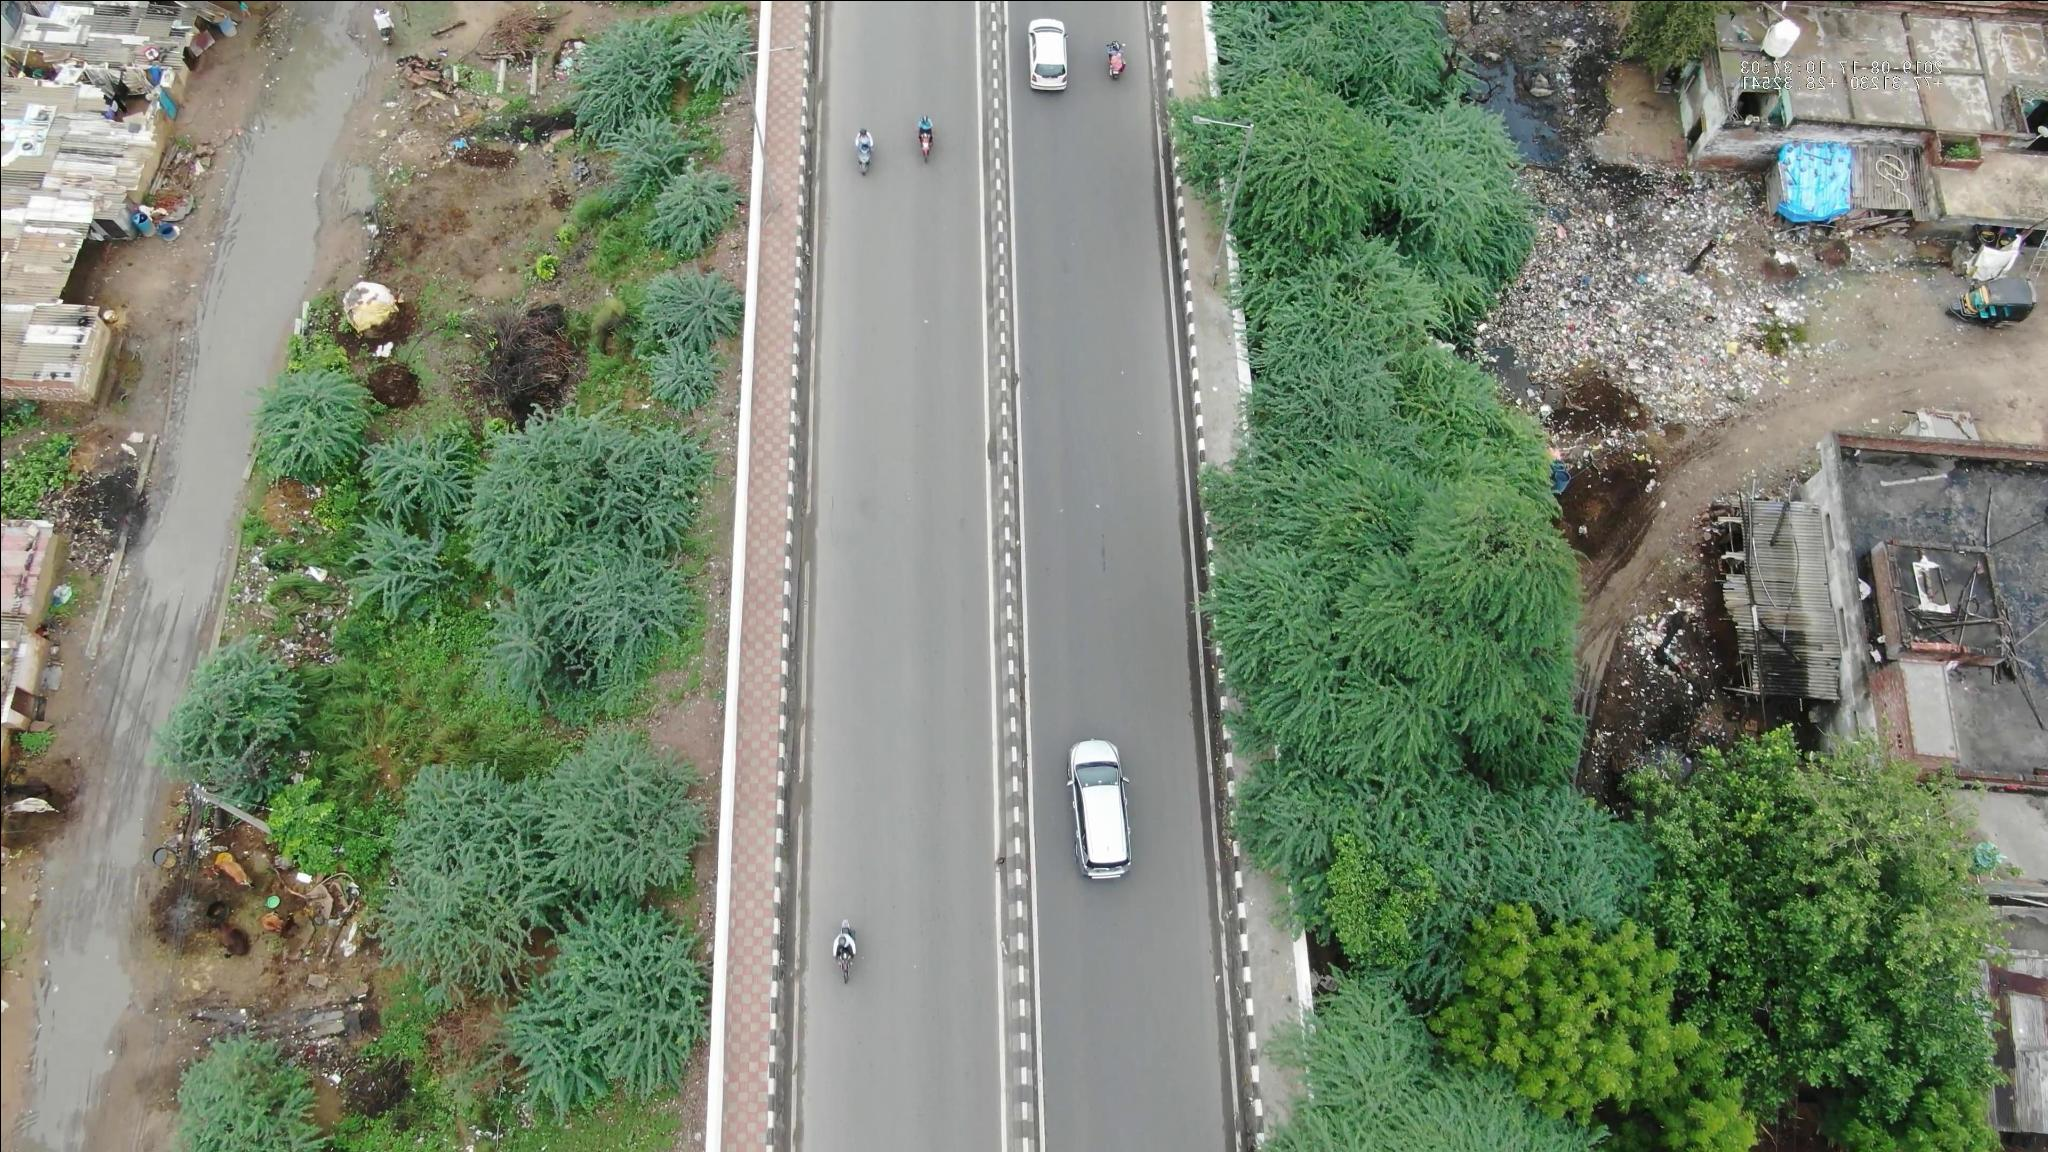Road_side_garbage: (1502, 166, 1762, 418)
